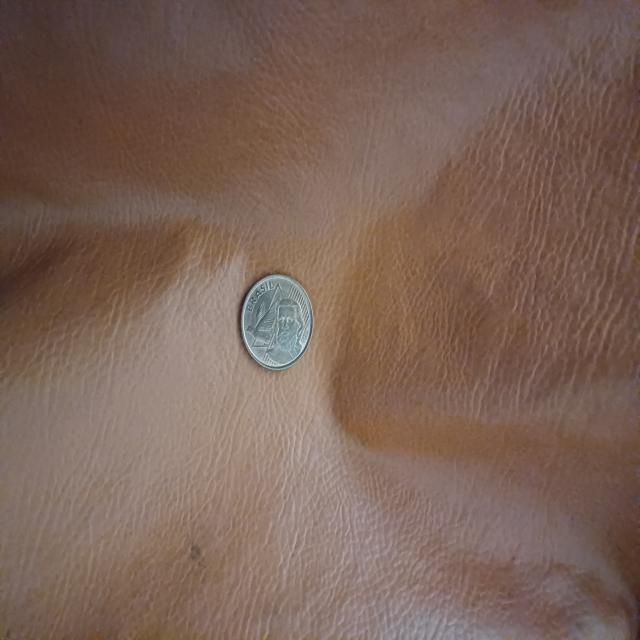50 cents: (241, 273, 315, 371)
